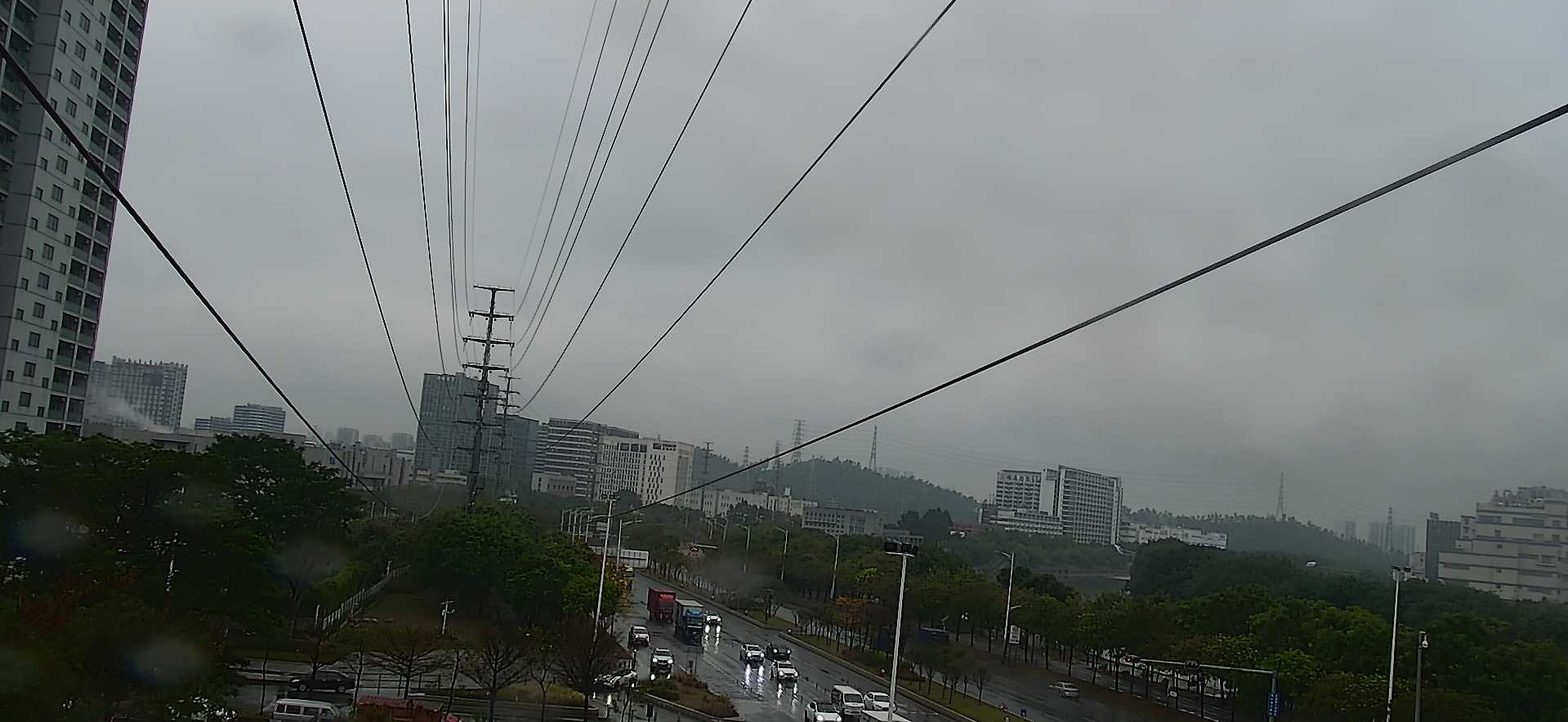烟雾: (83, 376, 173, 433)
